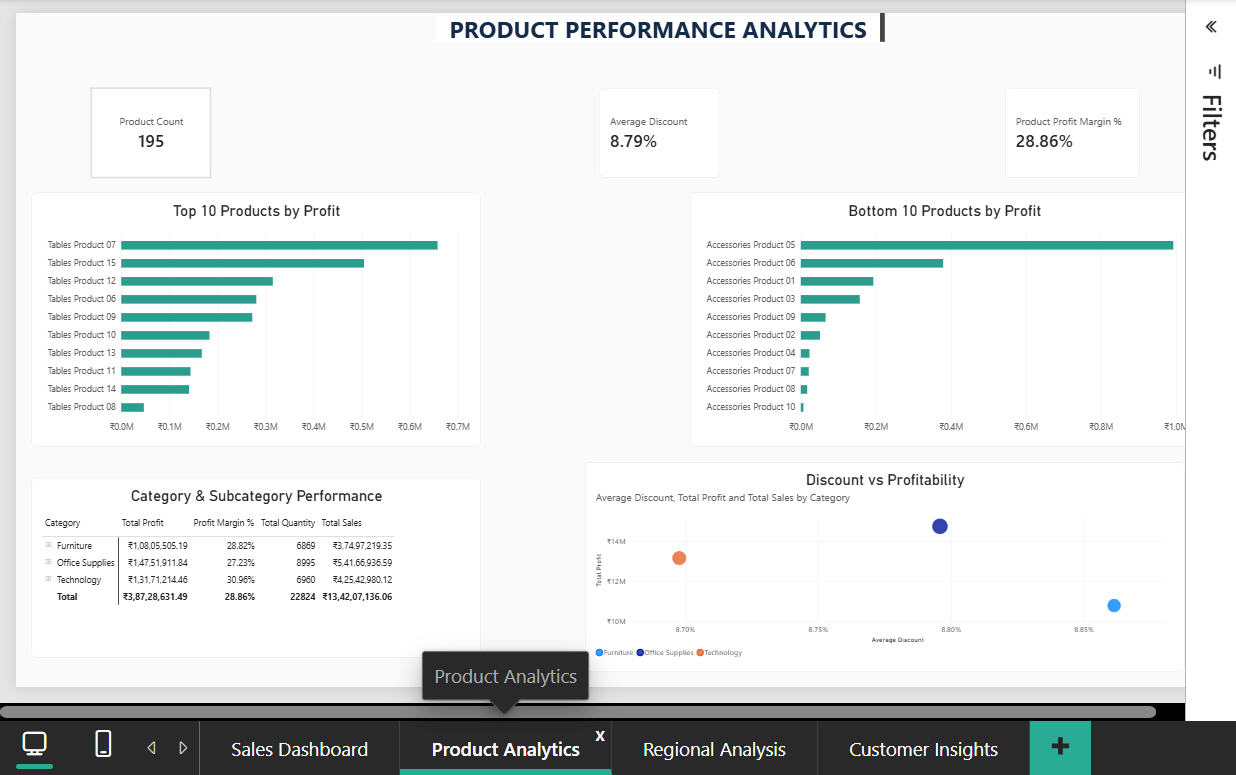

What the dashboard file says about the page in this screenshot:
{"tool":"powerbi","page":{"name":"Product Analytics","canvas":[1920,1080],"ordinal":1},"visuals":[{"type":"textbox","box":[672,0,720,48],"z":0},{"type":"clusteredBarChart","title":"Top 10 Products by Profit","fields":{"Category":["DimProducts.ProductName"],"Y":["Measures (2).Total Profit"]},"box":[24,288,720,408],"z":1000},{"type":"pivotTable","title":"Category & Subcategory Performance","fields":{"Rows":["DimProducts.Category","DimProducts.SubCategory"],"Values":["Measures (2).Total Profit","Measures (2).Profit Margin %","Measures (2).Total Quantity","Measures (2).Total Sales"]},"box":[24,744,720,288],"z":2000},{"type":"scatterChart","title":"Discount vs Profitability","fields":{"Series":["DimProducts.Category"],"Size":["Measures (2).Total Sales"],"X":["DimCustomers.Average Discount"],"Y":["Measures (2).Total Profit"]},"box":[912,720,960,336],"z":3000},{"type":"cardVisual","title":"Total Products","fields":{"Data":["Measures (2).Product Count"]},"box":[120,120,192,144],"z":4000},{"type":"cardVisual","fields":{"Data":["DimCustomers.Average Discount"]},"box":[936,120,192,144],"z":5000},{"type":"cardVisual","fields":{"Data":["DimCustomers.Product Profit Margin %"]},"box":[1584,120,216,144],"z":6000},{"type":"clusteredBarChart","title":"Bottom 10 Products by Profit","fields":{"Category":["DimProducts.ProductName"],"Y":["Measures (2).Total Profit"]},"box":[1080,288,816,408],"z":7000}]}

Visuals, with their boxes on the page's 1920x1080 design canvas (x1, y1, x2, y2). These are canvas units, not pixel positions in the 1236x775 screenshot, which may show the page scaled, cropped or inside an application window:
textbox: [left=672, top=0, right=1392, bottom=48]
"Top 10 Products by Profit" clusteredBarChart: [left=24, top=288, right=744, bottom=696]
"Category & Subcategory Performance" pivotTable: [left=24, top=744, right=744, bottom=1032]
"Discount vs Profitability" scatterChart: [left=912, top=720, right=1872, bottom=1056]
"Total Products" cardVisual: [left=120, top=120, right=312, bottom=264]
cardVisual - DimCustomers.Average Discount: [left=936, top=120, right=1128, bottom=264]
cardVisual - DimCustomers.Product Profit Margin %: [left=1584, top=120, right=1800, bottom=264]
"Bottom 10 Products by Profit" clusteredBarChart: [left=1080, top=288, right=1896, bottom=696]
